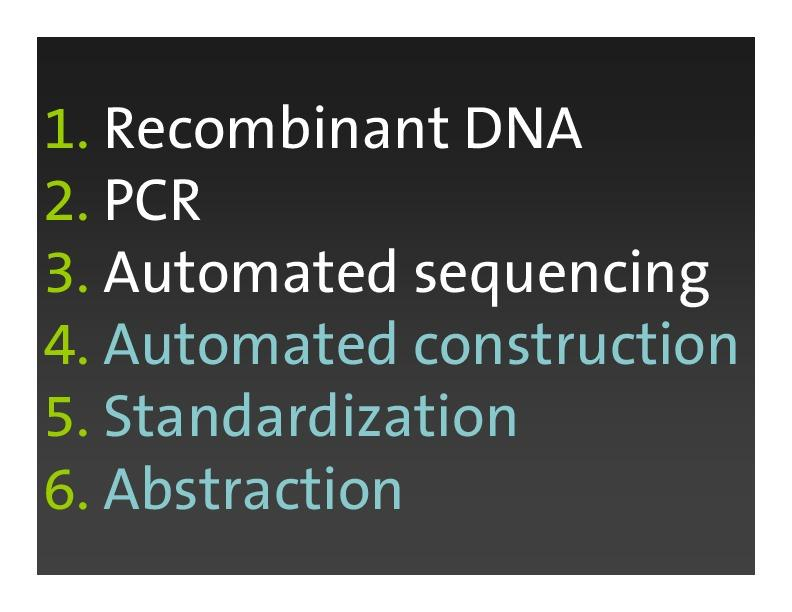subtitle: (38, 235, 724, 315), (40, 81, 698, 159), (37, 316, 750, 384), (33, 387, 534, 454), (36, 457, 418, 531), (36, 165, 223, 234)
